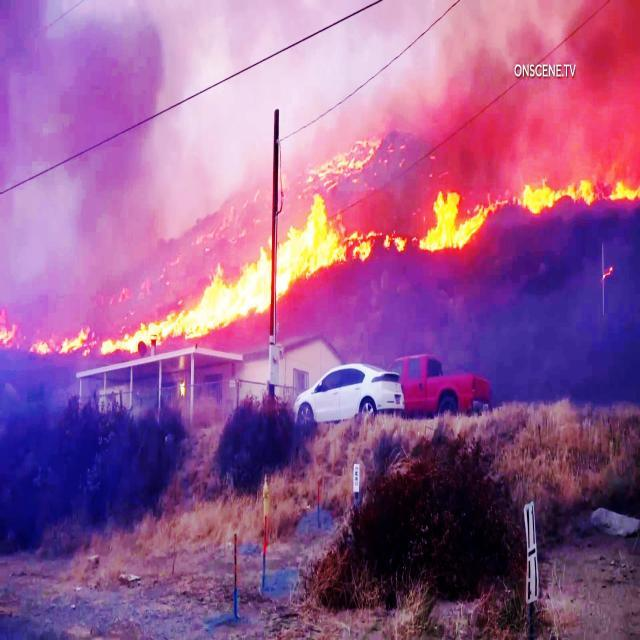Fire: (198, 196, 332, 334), (513, 152, 639, 224), (95, 292, 194, 349), (421, 174, 468, 255)
Smoke: (0, 20, 169, 256)
